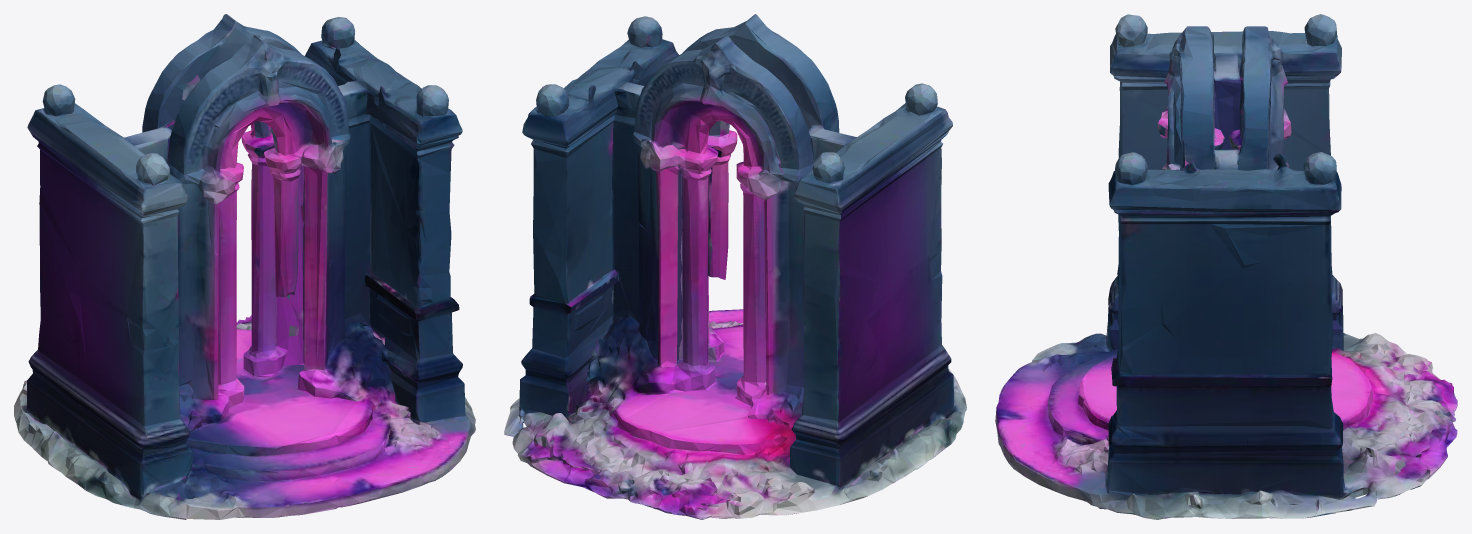
The model's file is solitude-ground-dais.collider.glb.
The picture shows the model from 3 angles, left to right: view 1: azimuth 30°, elevation 25°; view 2: azimuth 150°, elevation 25°; view 3: azimuth 270°, elevation 25°; orthographic projection.
Visible parts, largest first — view 1: temp_mesh.ply; view 2: temp_mesh.ply; view 3: temp_mesh.ply.
Boxes of the visible parts, x1,y1,x2,y2 form: temp_mesh.ply: (14, 14, 475, 519); temp_mesh.ply: (504, 14, 966, 519); temp_mesh.ply: (995, 14, 1457, 519).
Size of the model in its own units: 1.89 by 1.88 by 1.96.
1 material, 1 textured.
